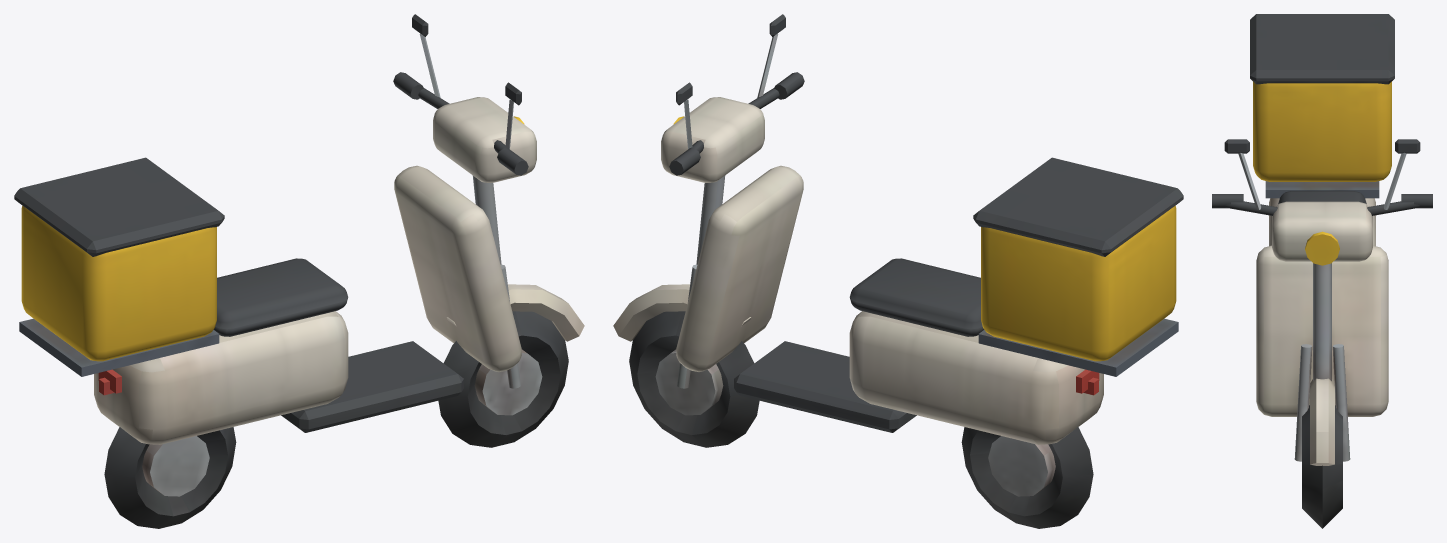
File: scooter_delivery.glb
3 views of the same model, side by side, from view 1: azimuth 30°, elevation 25°; view 2: azimuth 150°, elevation 25°; view 3: azimuth 270°, elevation 25° (orthographic). The views are drawn at different scales.
Parts seen in each view (by area): view 1: scooter_delivery; view 2: scooter_delivery; view 3: scooter_delivery.
Part boxes in pixels (x1,y1,x2,y2): scooter_delivery: [14, 14, 584, 528]; scooter_delivery: [613, 14, 1183, 528]; scooter_delivery: [1212, 14, 1432, 528].
Size of the model in its own units: 1.77 by 1.28 by 0.7.
Materials: 6 (6 with a texture image).
